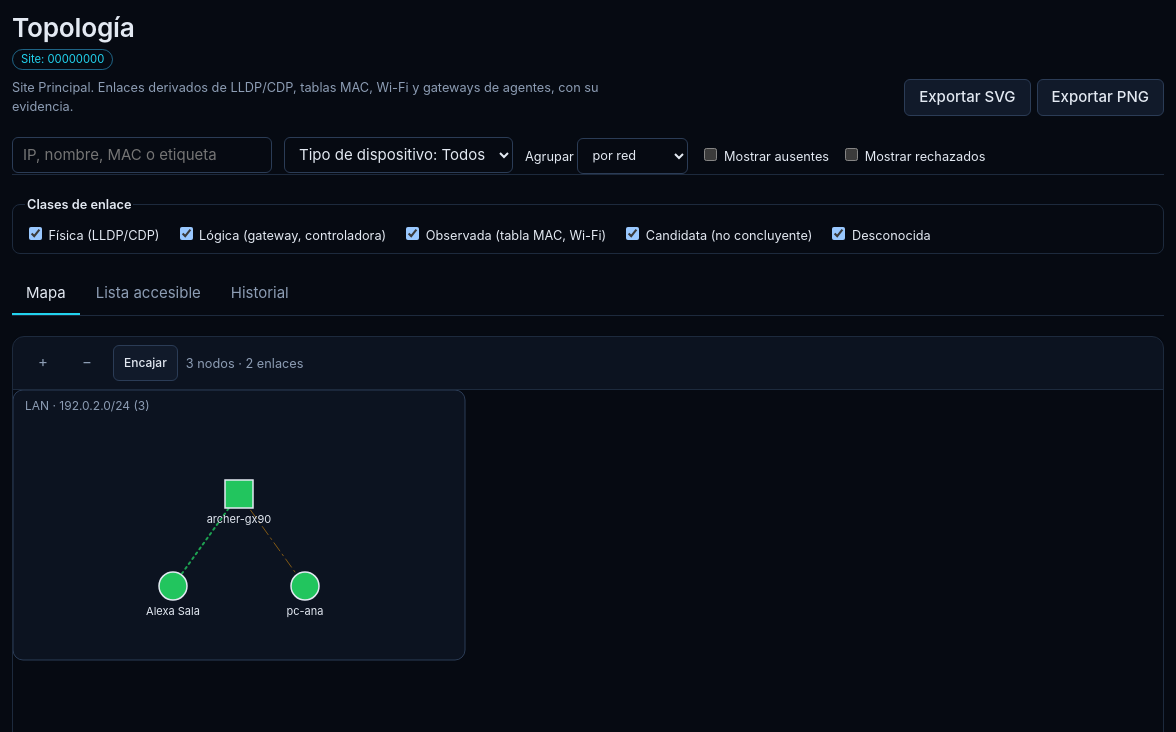
Test: TopologyPage › la búsqueda usa q del API y resalta las coincidencias
This screenshot has width=1176, height=732.
Type "aa:bb:cc" into the search field named "Buscar nodos" at (142, 155), box 12,137 -> 272,173
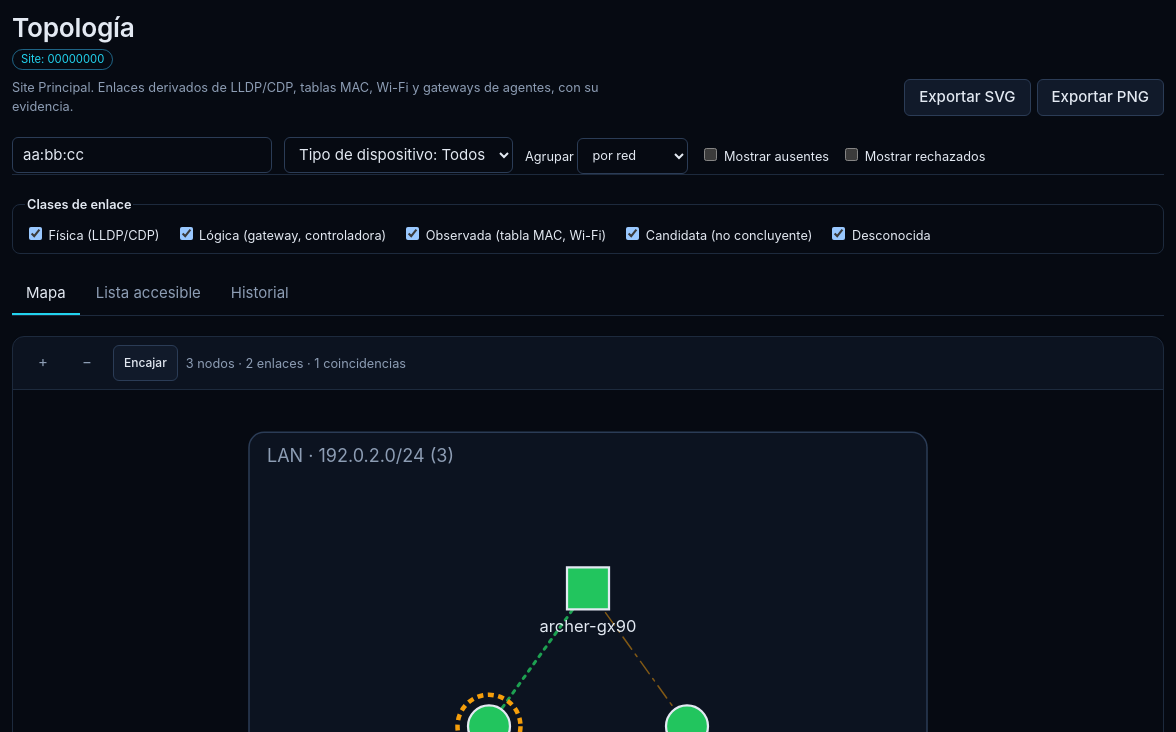
Check: the text "3 nodos · 2 enlaces · 1 coincidencias" is shown, box 186,354 -> 406,373
